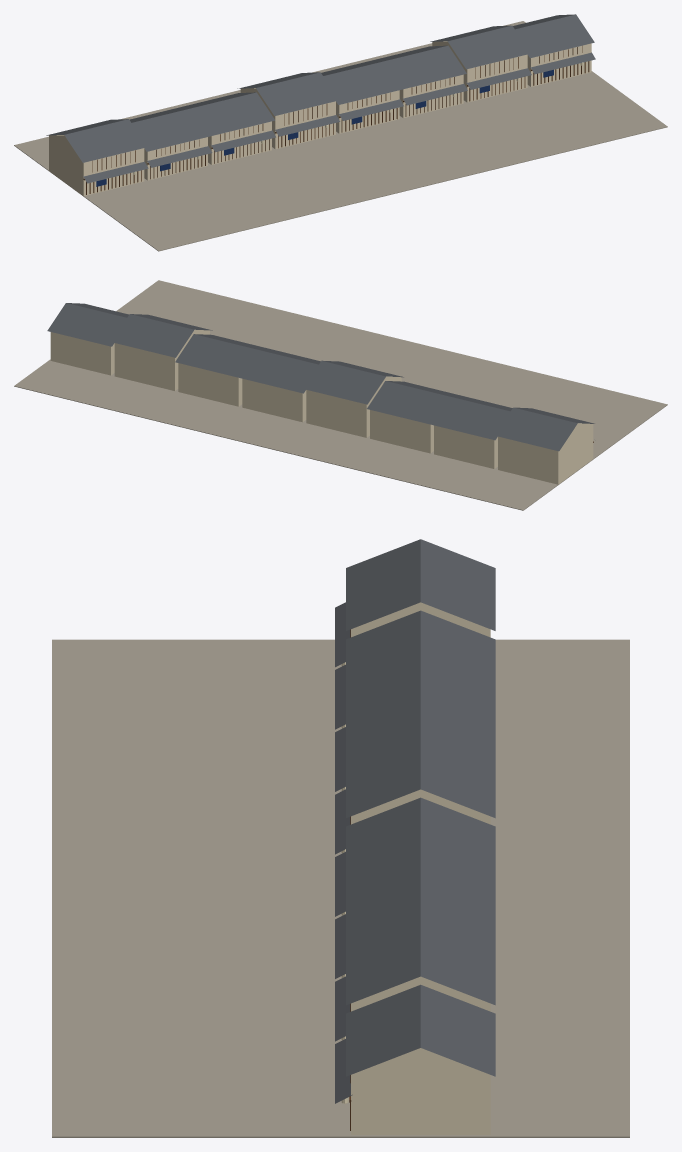
The model's file is machiya.glb.
3 views of the same model, one above another, from view 1: azimuth 30°, elevation 25°; view 2: azimuth 150°, elevation 25°; view 3: azimuth 270°, elevation 25° (orthographic). The views are drawn at different scales.
Visible parts, largest first — view 1: Machiya_static; view 2: Machiya_static; view 3: Machiya_static.
Part boxes in pixels (<box>): Machiya_static: <box>14,14,667,251</box>; Machiya_static: <box>14,280,667,510</box>; Machiya_static: <box>52,539,629,1137</box>.
Bounding box in the file's own units: 119 × 11 × 58.
